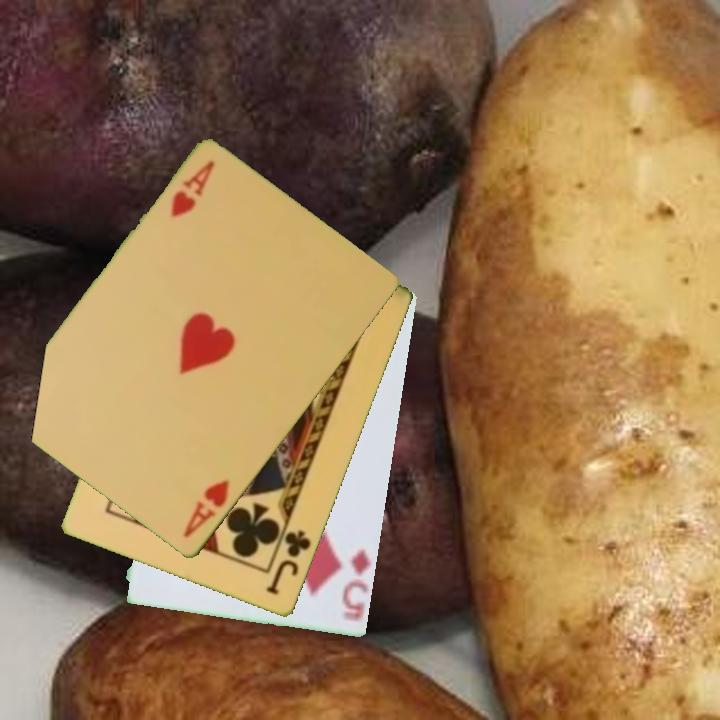5d: (339, 546, 374, 626)
Ah: (179, 476, 233, 542), (167, 157, 218, 221)
Jc: (262, 527, 314, 599)
